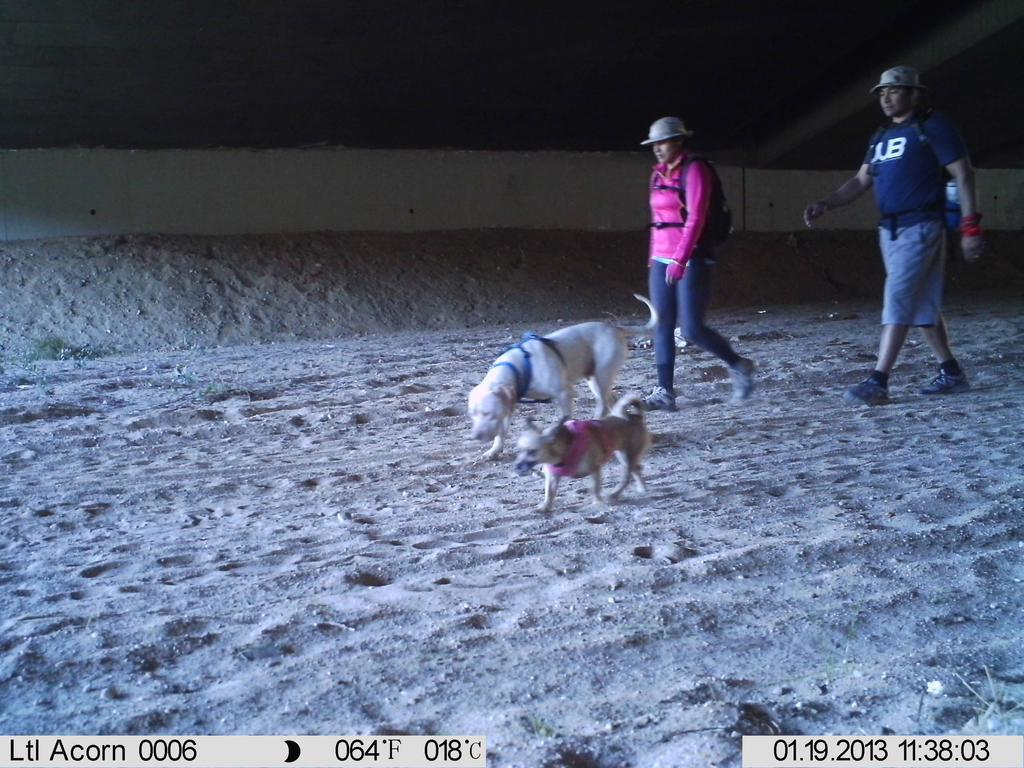dog: (447, 285, 660, 463), (513, 405, 674, 525)
